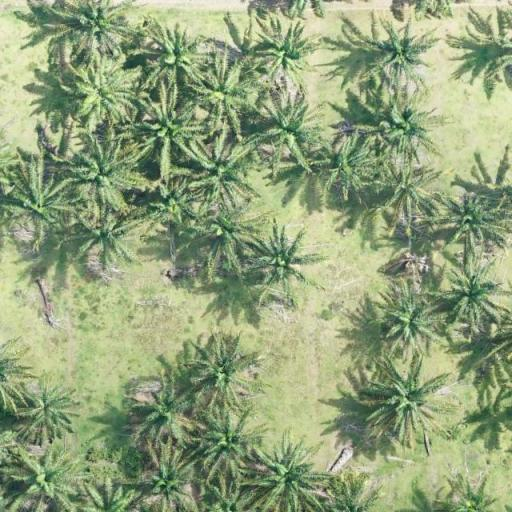Ganoderma: (388, 165, 428, 209)
